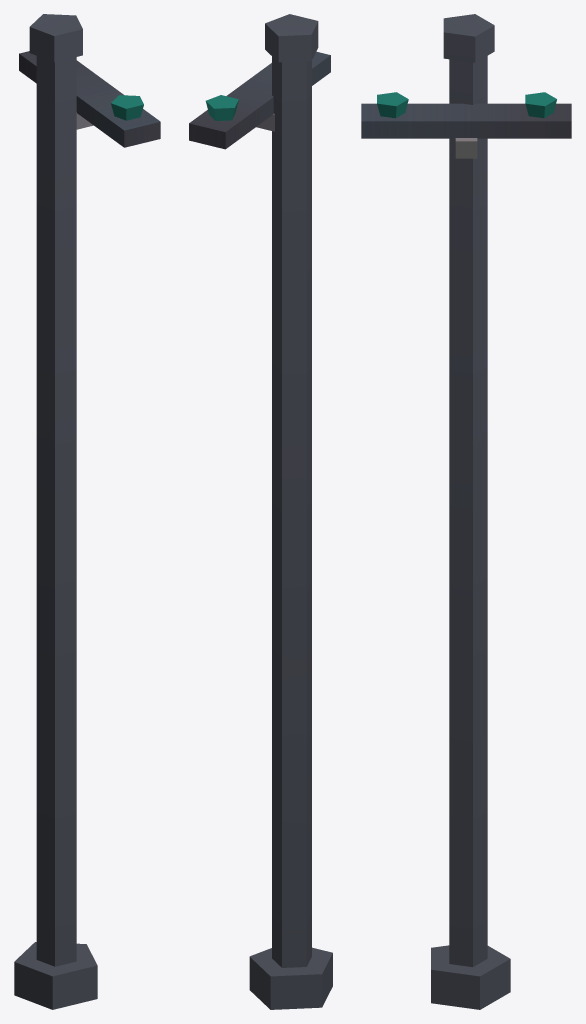
The model's file is SM_Electric_Pole_1.FBX.
3 renders of one model, left to right at view 1: azimuth 30°, elevation 25°; view 2: azimuth 150°, elevation 25°; view 3: azimuth 270°, elevation 25°, orthographic.
Visible parts, largest first — view 1: SM_Electric_Pole_1; view 2: SM_Electric_Pole_1; view 3: SM_Electric_Pole_1.
Part boxes in pixels (x1,y1,x2,y2): SM_Electric_Pole_1: (14,14,160,1009); SM_Electric_Pole_1: (189,14,332,1009); SM_Electric_Pole_1: (361,14,571,1009).
Size of what is drawn, in the model's own units: 104 by 200 by 1014.
